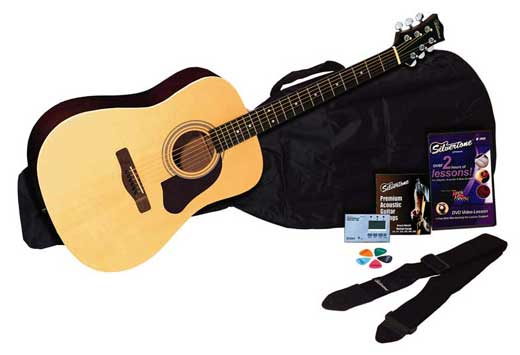guitar: (27, 12, 444, 275)
